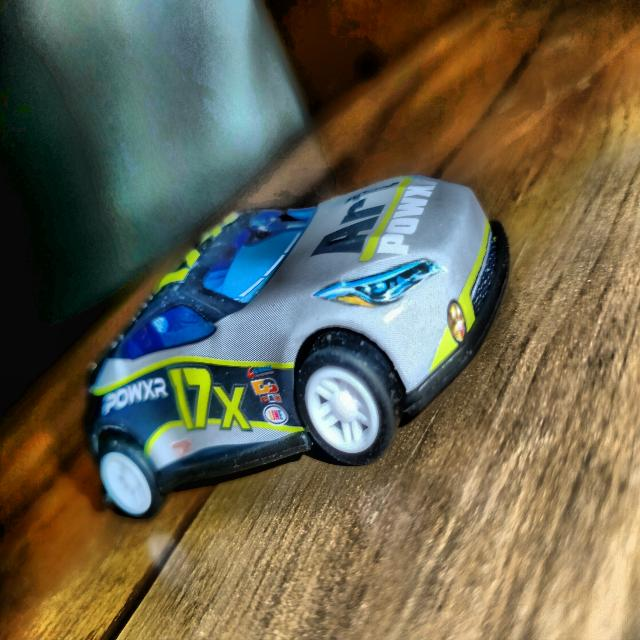Car: (86, 177, 508, 518)
